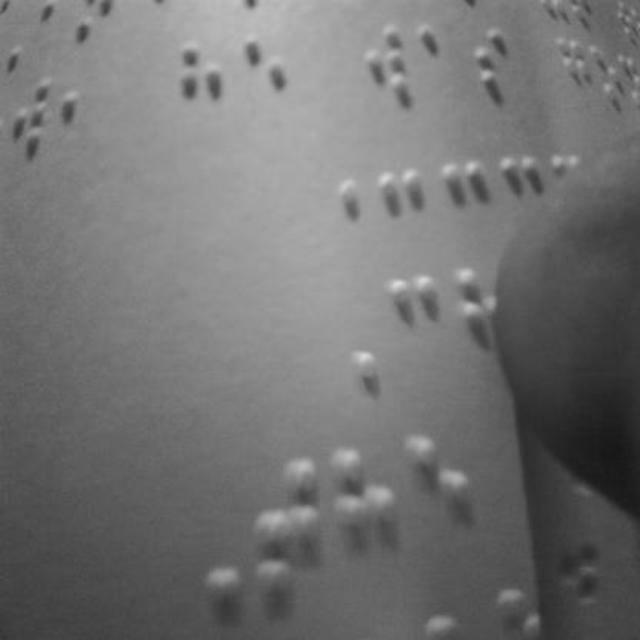braiile: (325, 443, 401, 593), (406, 430, 478, 580), (254, 459, 322, 609), (386, 266, 450, 384), (238, 34, 292, 148), (60, 51, 116, 160), (466, 16, 522, 120), (175, 40, 227, 150), (363, 17, 415, 113), (418, 16, 464, 122), (8, 66, 56, 166)
